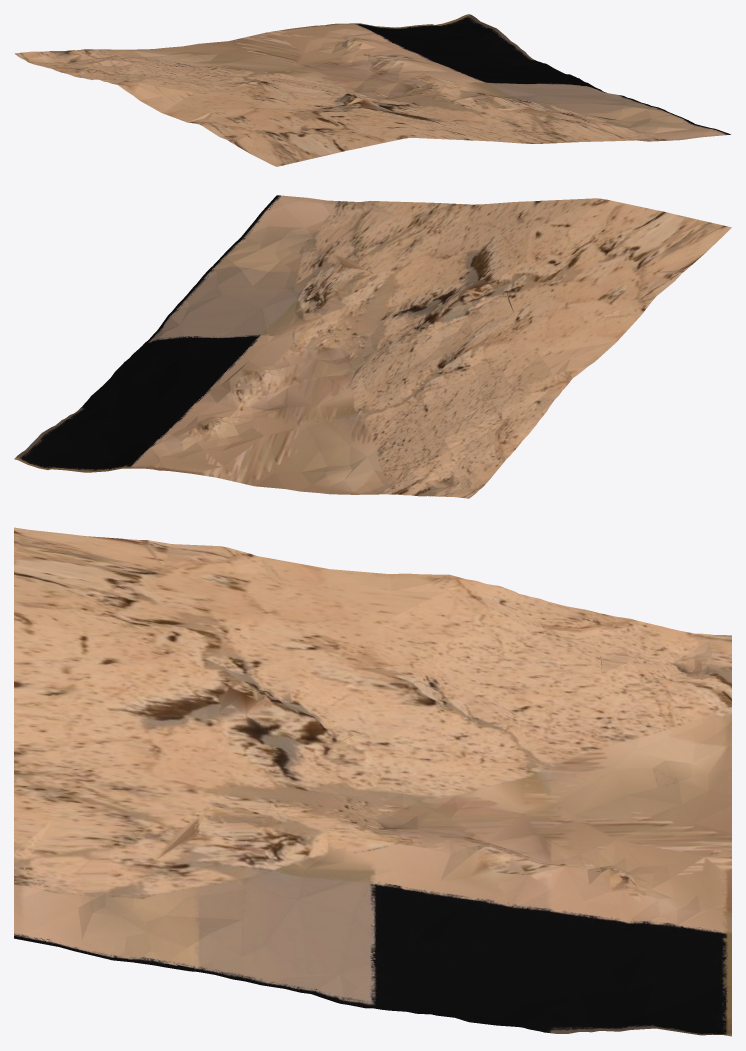
The picture shows the model from 3 angles, top to bottom: view 1: azimuth 30°, elevation 25°; view 2: azimuth 150°, elevation 25°; view 3: azimuth 270°, elevation 25°; orthographic projection. The views are drawn at different scales.
Bounding box in the file's own units: 4.18 × 1.35 × 4.18.
Materials: 3 (3 with a texture image).
